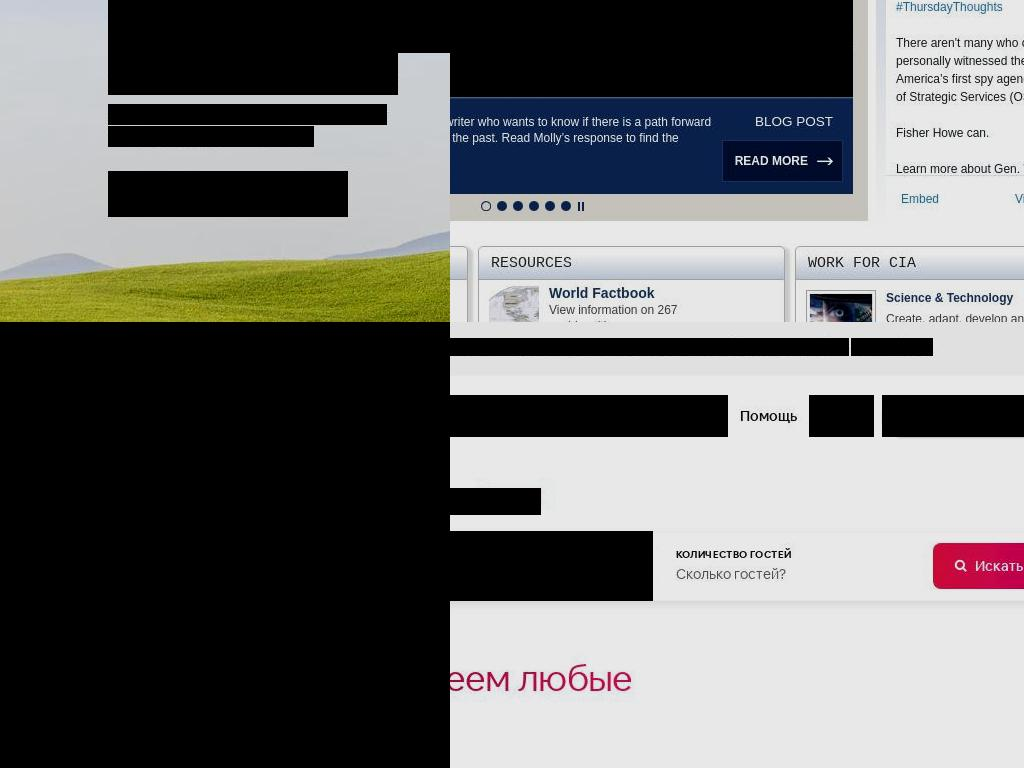button: (651, 531, 921, 601), (0, 547, 186, 643), (450, 531, 653, 601), (219, 547, 395, 620), (108, 171, 348, 217), (525, 395, 728, 437), (882, 395, 1024, 437), (721, 139, 844, 182), (0, 322, 236, 340), (933, 543, 1024, 589), (728, 395, 809, 437), (450, 395, 525, 437), (738, 113, 843, 140), (809, 395, 874, 437), (450, 488, 541, 515), (300, 322, 411, 340), (143, 433, 227, 455), (851, 338, 933, 356), (481, 200, 492, 211), (497, 200, 508, 211), (513, 200, 524, 211), (529, 200, 540, 211), (545, 200, 556, 211), (561, 200, 572, 211), (577, 200, 588, 211)
heading: (0, 422, 450, 468), (108, 0, 450, 53), (0, 548, 186, 641), (450, 655, 632, 745), (108, 40, 398, 95), (0, 499, 427, 531), (450, 61, 843, 83), (491, 253, 784, 271), (808, 253, 1024, 271), (886, 290, 1013, 305), (549, 284, 655, 301)
iframe: (0, 322, 450, 768), (886, 0, 1024, 222)
image: (450, 0, 853, 97), (806, 289, 874, 322), (489, 284, 539, 322)
text: (450, 113, 843, 162), (450, 338, 849, 356), (0, 657, 183, 692), (108, 104, 387, 125), (108, 126, 314, 147), (675, 565, 897, 583), (675, 549, 897, 565), (537, 407, 716, 425), (450, 565, 629, 583), (549, 301, 699, 322), (0, 433, 144, 454), (450, 549, 629, 565), (899, 406, 1024, 425), (240, 562, 366, 578), (851, 338, 933, 356), (528, 200, 615, 215), (450, 407, 513, 425), (740, 407, 797, 425), (486, 489, 536, 508), (975, 557, 1023, 575), (821, 407, 862, 425), (0, 657, 46, 672), (491, 200, 529, 215), (403, 435, 411, 453), (385, 435, 391, 453), (54, 657, 60, 672), (226, 433, 230, 454)
